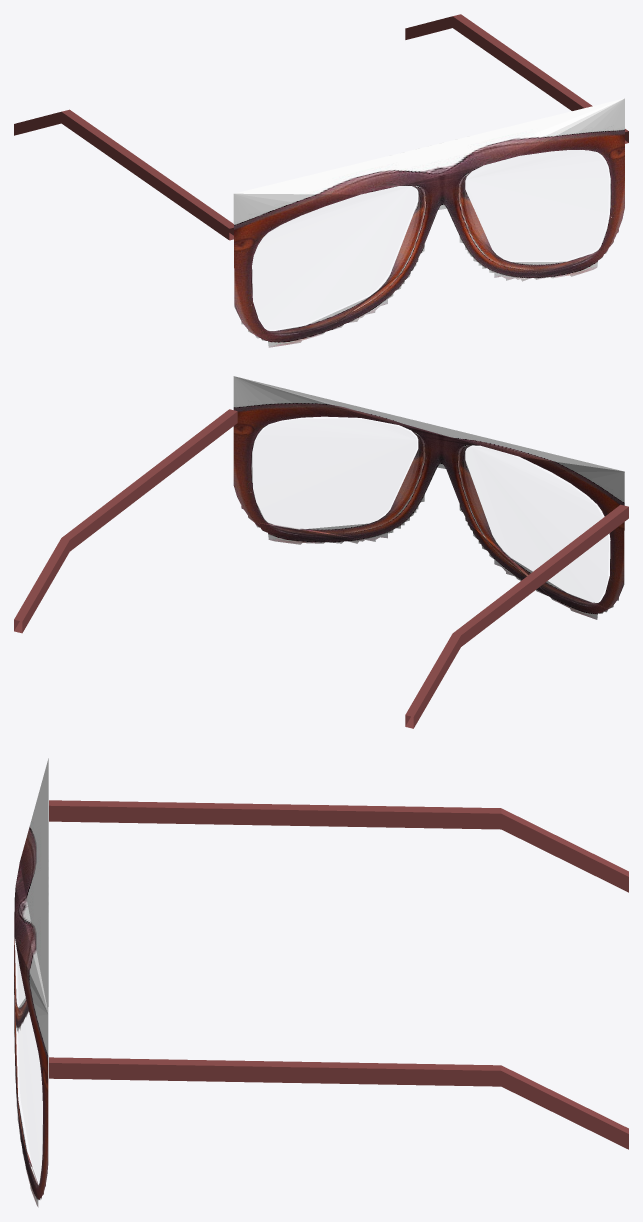
Rendered from gothamstyle-matte-237_matte-brown.glb.
3 views of the same model, one above another, from view 1: azimuth 30°, elevation 25°; view 2: azimuth 150°, elevation 25°; view 3: azimuth 270°, elevation 25° (orthographic). The views are drawn at different scales.
Parts seen in each view (by area): view 1: frame_front, temple_viewer_left, temple_viewer_right; view 2: frame_front, temple_viewer_right, temple_viewer_left; view 3: temple_viewer_left, temple_viewer_right, frame_front.
Boxes of the visible parts, bbox=[...] form: frame_front: bbox=[233, 98, 624, 347]; temple_viewer_left: bbox=[14, 109, 233, 240]; temple_viewer_right: bbox=[405, 14, 628, 143]; frame_front: bbox=[233, 376, 624, 619]; temple_viewer_right: bbox=[14, 409, 237, 633]; temple_viewer_left: bbox=[405, 504, 628, 728]; temple_viewer_left: bbox=[49, 800, 628, 892]; temple_viewer_right: bbox=[49, 1057, 628, 1149]; frame_front: bbox=[14, 758, 48, 1207].
Bounding box in the file's own units: 0.1425 × 0.0544 × 0.141.
3 materials, 2 textured.
